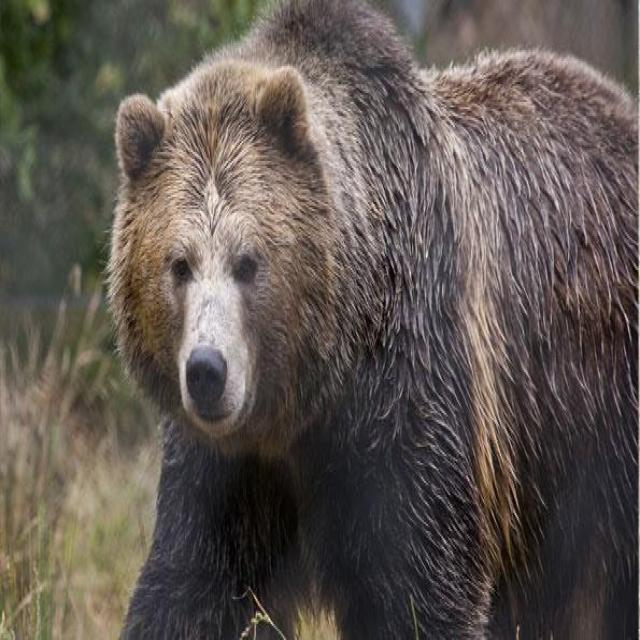Bear: (106, 0, 640, 640)
